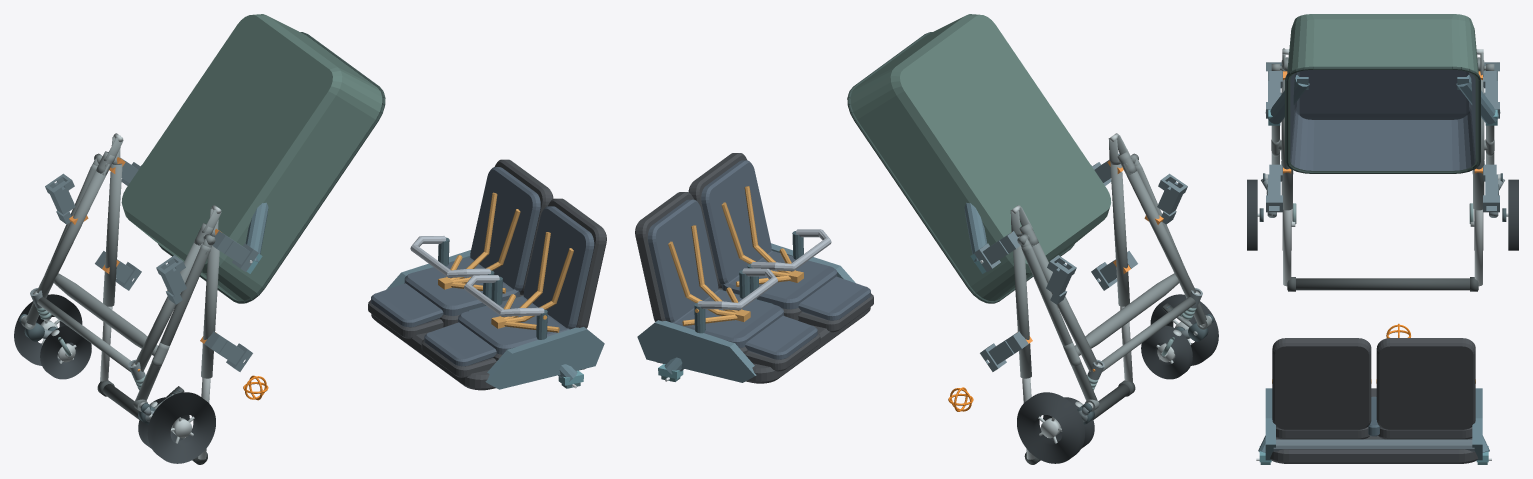
File: D27_w650_state3_wheel_S.glb
3 renders of one model, left to right at view 1: azimuth 30°, elevation 25°; view 2: azimuth 150°, elevation 25°; view 3: azimuth 270°, elevation 25°, orthographic. The views are drawn at different scales.
Visible parts, largest first — view 1: D27_Lower, D27_Upper, RL_tire.011, FR_tire.011, main_upper_1.012, V46_rearbar.011, main_lower_1.012, V46_rear_leg_-1.011, main_upper_-1.012, RR_tire.011, main_lower_-1.012, front_fixed_round_tube.011 (+7 smaller); view 2: D27_Lower, D27_Upper, RR_tire.011, FL_tire.011, main_upper_-1.012, V46_rearbar.011, main_lower_-1.012, V46_rear_leg_1.011, main_upper_1.012, RL_tire.011, main_lower_1.012, front_fixed_round_tube.011 (+7 smaller); view 3: D27_Lower, D27_Upper, round_handle.013, D27_Lower_Mount_M, RL_tire.011, RR_tire.011, Universal_Cabin_Receiver_H_1, Universal_Cabin_Receiver_H_-1, main_upper_1.012, main_upper_-1.012, handle_slider_1.013, handle_slider_-1.013 (+3 smaller).
Boxes of the visible parts, x1,y1,x2,y2 form: D27_Lower: (121,14,385,303); D27_Upper: (368,159,606,390); RL_tire.011: (147,392,215,463); FR_tire.011: (40,325,91,379); main_upper_1.012: (103,164,122,306); V46_rearbar.011: (54,273,157,355); main_lower_1.012: (36,164,109,298); V46_rear_leg_-1.011: (135,244,211,400); main_upper_-1.012: (201,236,219,378); RR_tire.011: (14,294,82,365); main_lower_-1.012: (134,241,203,371); front_fixed_round_tube.011: (37,297,130,371); D27_Lower: (847,14,1111,303); D27_Upper: (635,153,873,383); RR_tire.011: (1017,392,1084,463); FL_tire.011: (1141,325,1192,379); main_upper_-1.012: (1110,164,1129,306); V46_rearbar.011: (1075,273,1178,355); main_lower_-1.012: (1123,164,1196,297); V46_rear_leg_1.011: (1021,244,1096,400); main_upper_1.012: (1013,236,1031,378); RL_tire.011: (1150,294,1218,365); main_lower_1.012: (1029,241,1097,371); front_fixed_round_tube.011: (1101,297,1195,371); D27_Lower: (1285,14,1480,173); D27_Upper: (1265,338,1482,463); round_handle.013: (1287,278,1478,290); D27_Lower_Mount_M: (1265,75,1500,125); RL_tire.011: (1247,179,1257,250); RR_tire.011: (1508,179,1518,250); Universal_Cabin_Receiver_H_1: (1483,164,1499,212); Universal_Cabin_Receiver_H_-1: (1266,164,1282,212); main_upper_1.012: (1473,77,1484,210); main_upper_-1.012: (1281,77,1292,210); handle_slider_1.013: (1474,209,1482,286); handle_slider_-1.013: (1283,209,1291,286).
Size of the model in its own units: 1.51 by 1.08 by 0.766.
